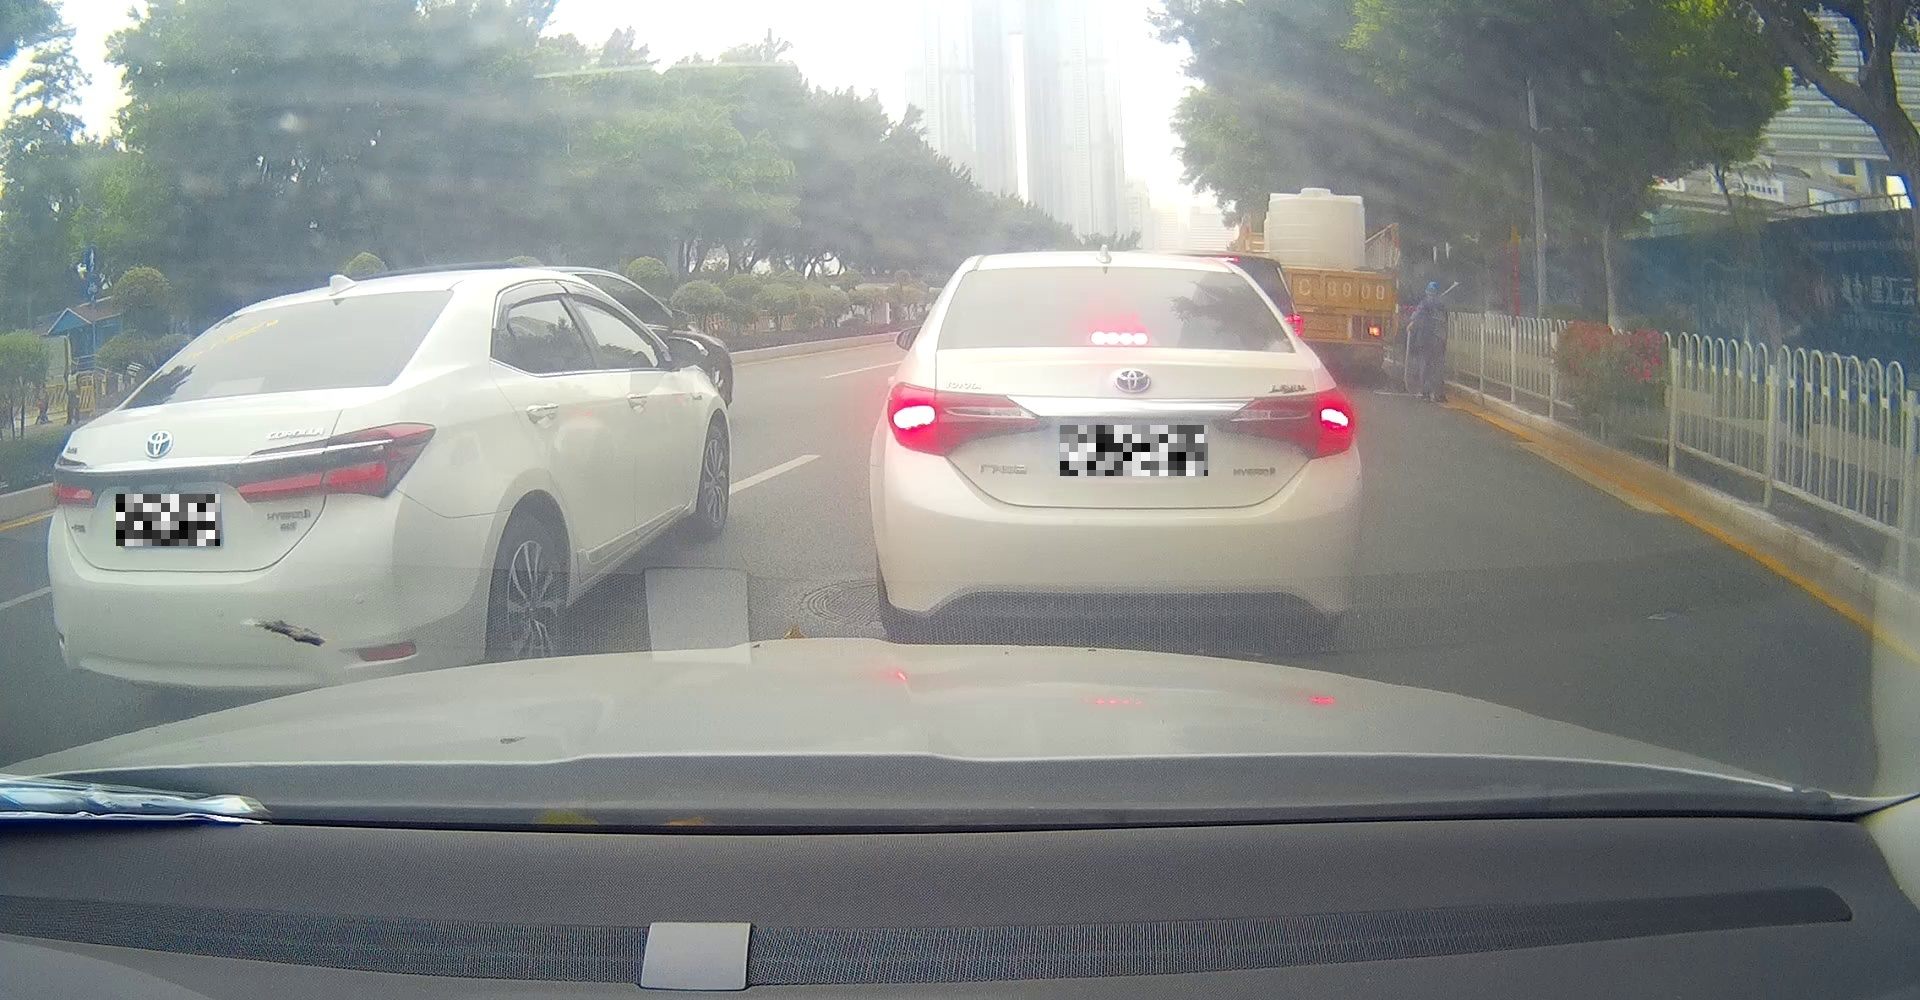L_light: (885, 382, 1053, 457), (50, 456, 109, 510)
R_light: (226, 421, 439, 504), (1215, 385, 1357, 459)
T_light: (1090, 330, 1149, 346), (307, 298, 356, 312)
day-brake: (866, 250, 1361, 651)
day-no: (47, 269, 455, 694)
plate_1: (116, 494, 220, 546)
plate_2: (1060, 425, 1208, 476)
